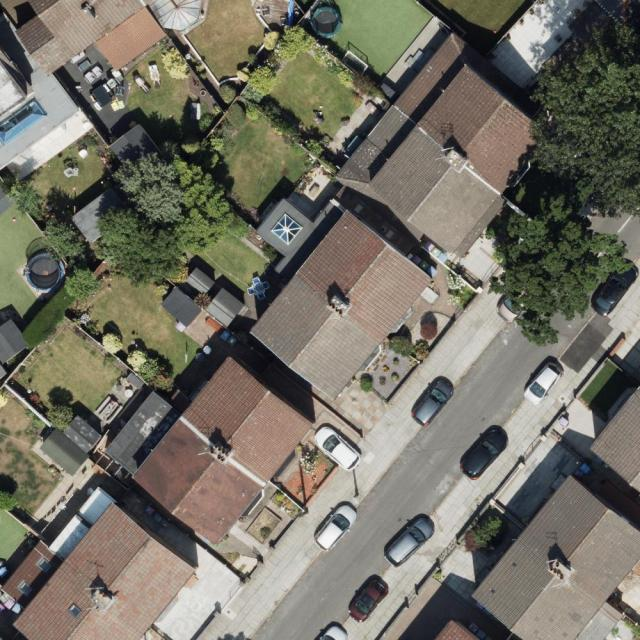roof: (334, 33, 558, 264), (105, 353, 316, 548), (242, 197, 437, 406), (0, 0, 203, 172), (0, 487, 199, 640), (466, 472, 640, 640), (587, 386, 640, 502), (432, 617, 484, 640)
skylight: (0, 96, 49, 147), (144, 0, 204, 33), (267, 210, 304, 246), (14, 578, 35, 599), (33, 555, 54, 576), (66, 600, 84, 617)
